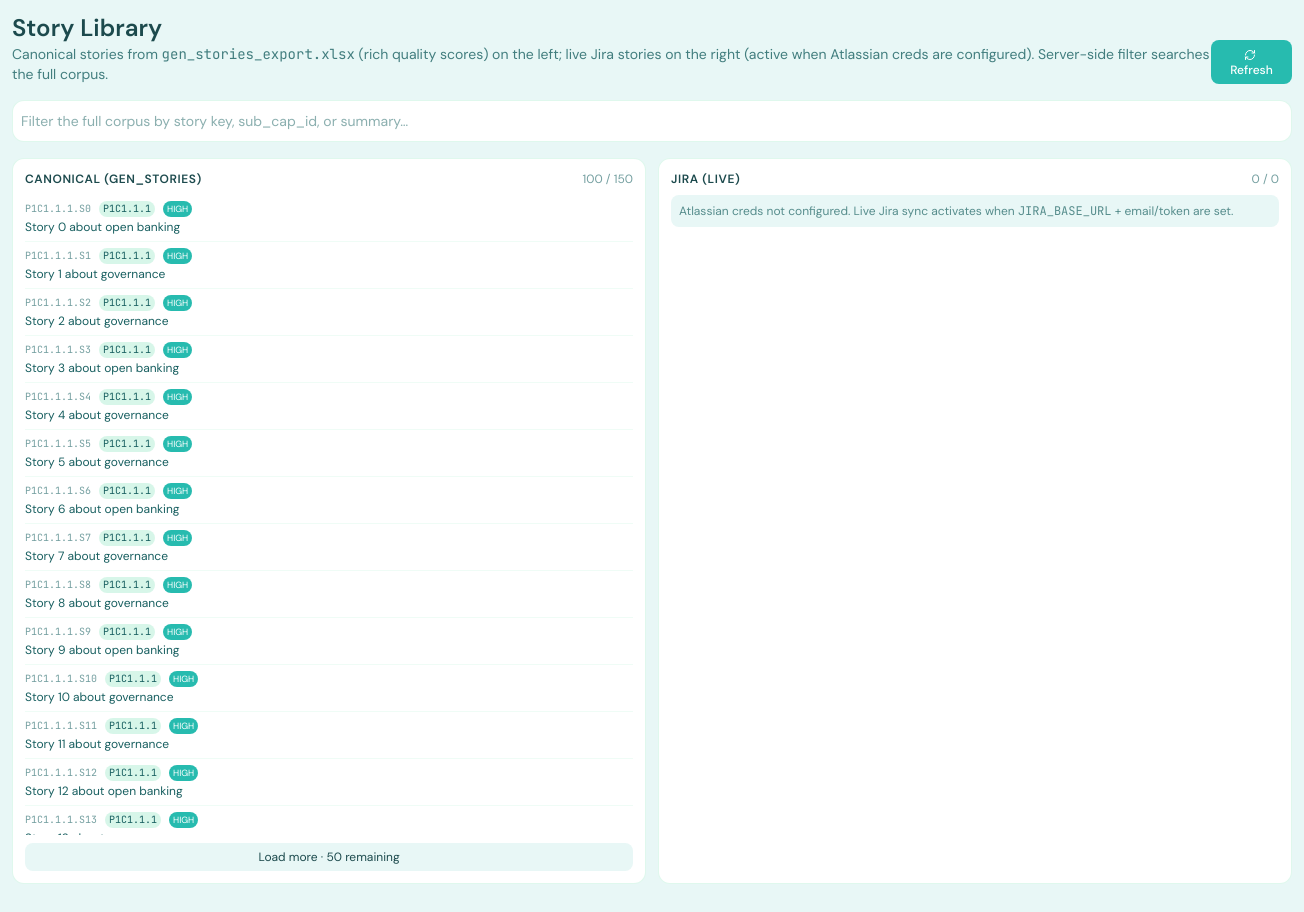
it: Story Library (paginated) › load more grows the visible page
Expected: the text "P1C1.1.1.S0" is shown, [25, 201, 91, 217]
Click the button "Load more · 50 remaining": (329, 857) [25, 843, 633, 871]
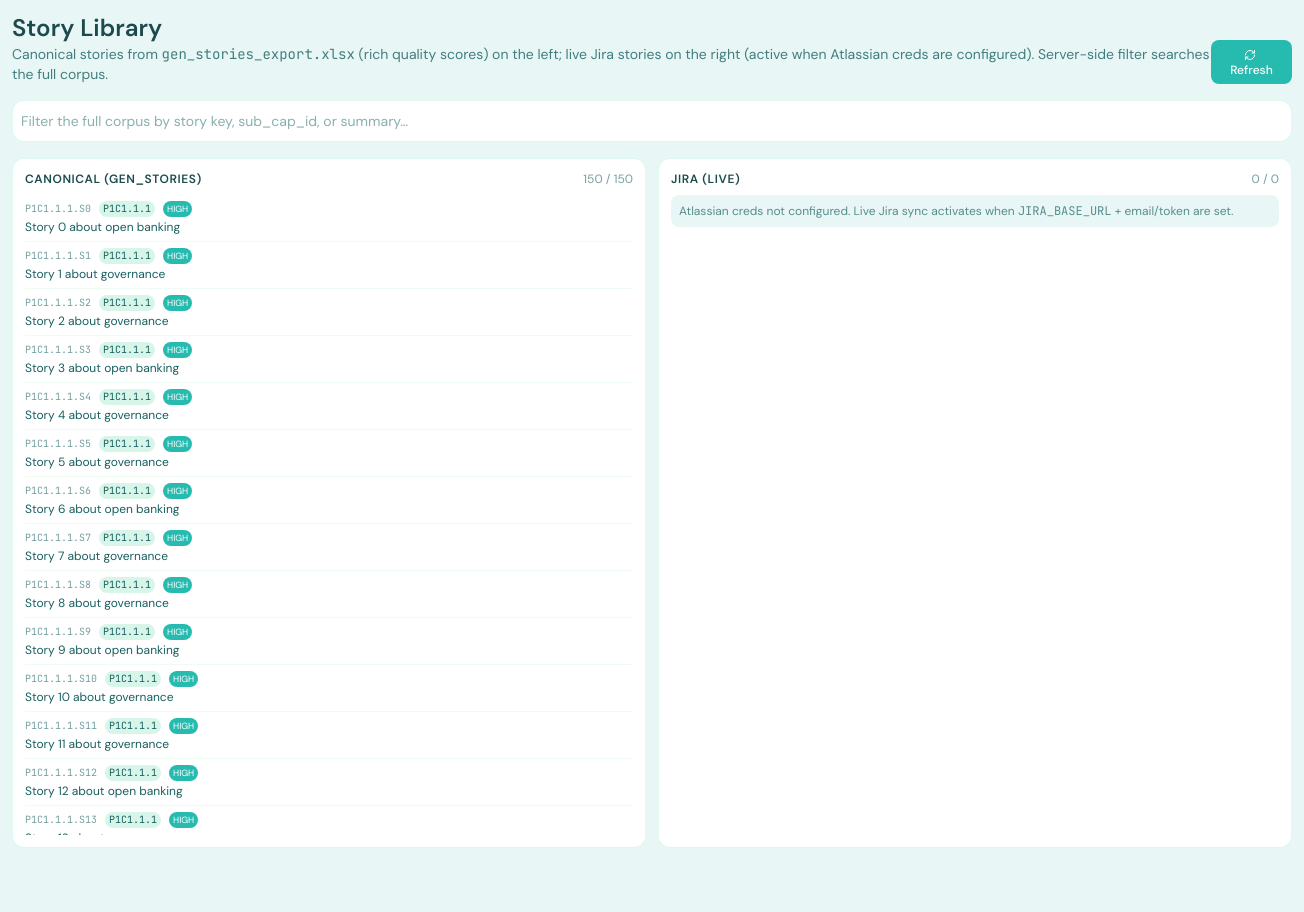
Expected: the text "150 / 150" is shown, [583, 171, 633, 187]
